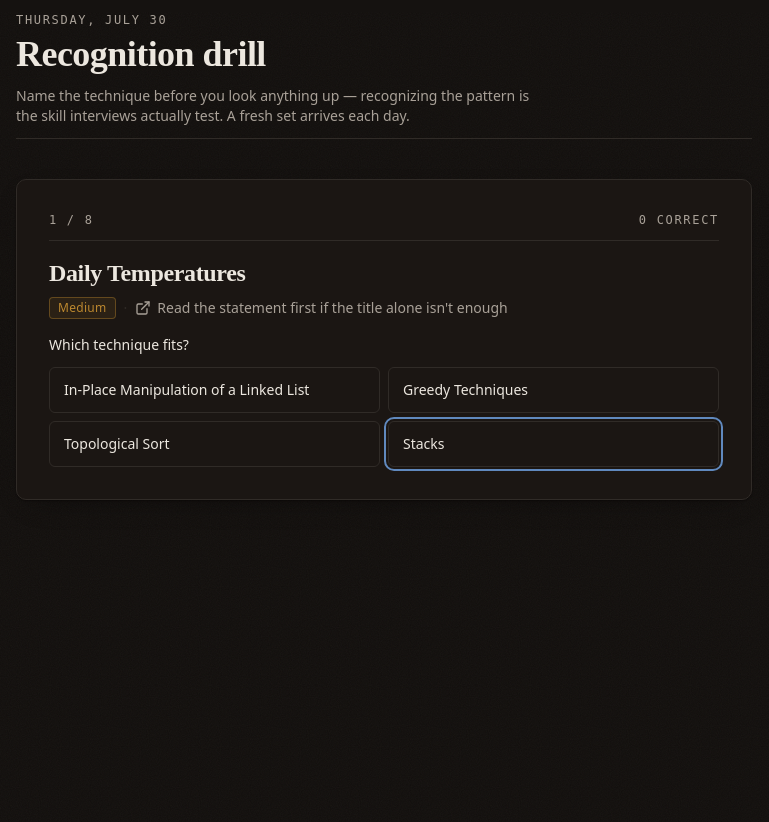
Test: DrillsPage › answering keeps focus on the chosen option and announces the verdict
The width and height of the screenshot is (769, 822).
Click the button "Stacks" at (424, 444), box [388,421,719,467]
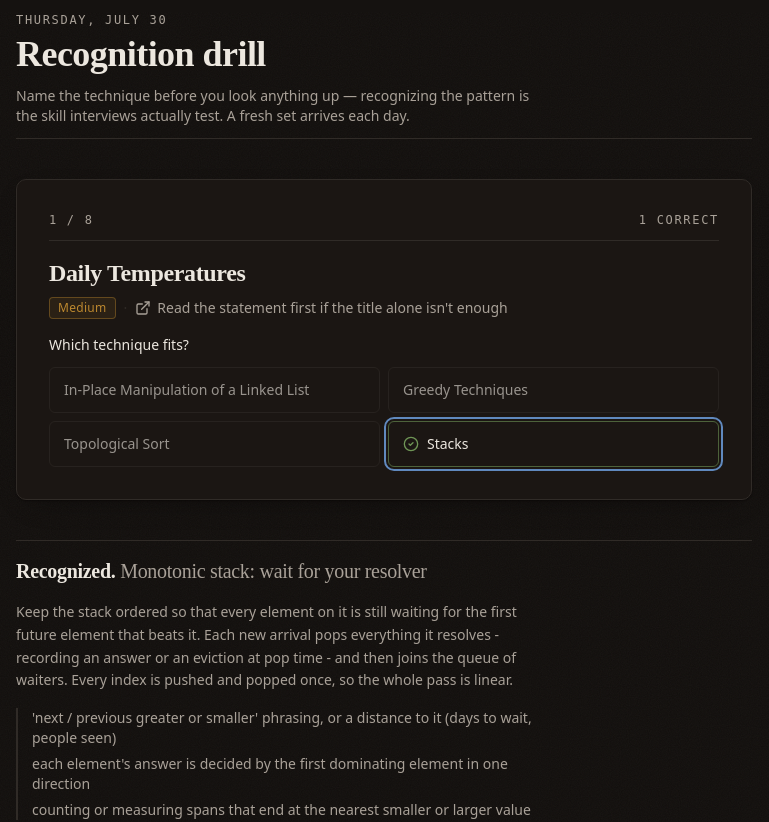
Now the button "Stacks" is enabled, box [388,421,719,467]
